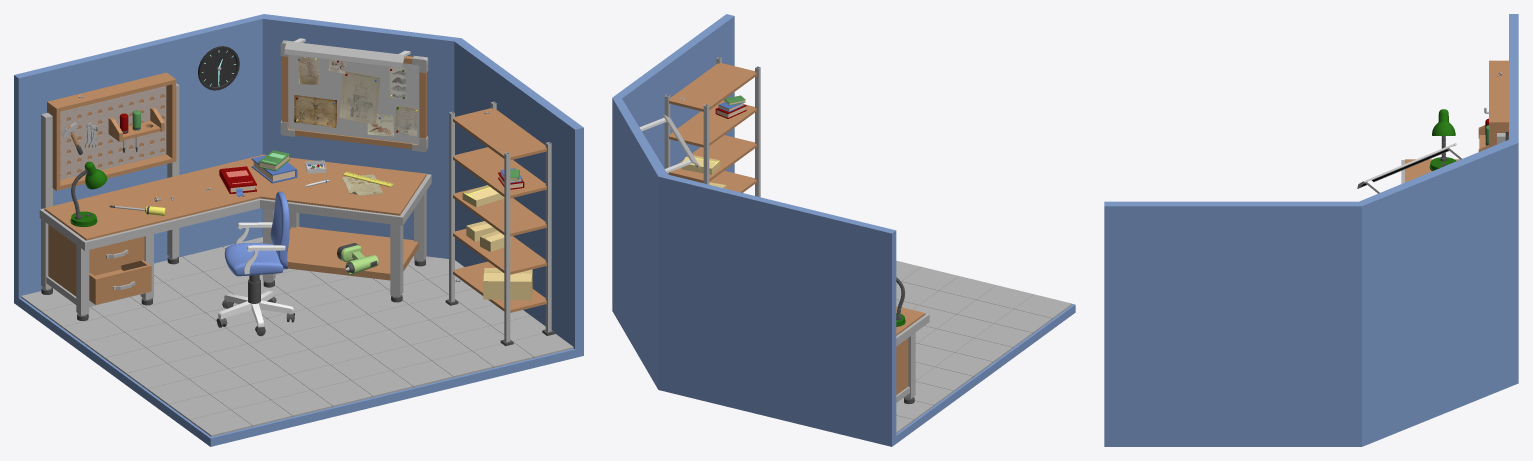
The model's file is stylized-workplace.fbx.
The picture shows the model from 3 angles, left to right: view 1: azimuth 30°, elevation 25°; view 2: azimuth 150°, elevation 25°; view 3: azimuth 270°, elevation 25°; orthographic projection. The views are drawn at different scales.
Parts seen in each view (by area): view 1: Plane.001_base_0, Plane.012_floor_0, Cube_wood_0, Cube.050_wood_0, Plane.011_base_0, Plane_wood.001_0, Cube.026_desk_0, Cube.005_wood_0, Cube_metal_0, Cube.001_wood_0, Cube.049_metal_0, Cube.002_metal_0 (+22 smaller); view 2: Plane.001_base_0, Plane.012_floor_0, Cube.050_wood_0, Plane.011_base_0, Cube.049_metal_0, Cube.008_wood_0, Cube.006_metal_0; view 3: Plane.001_base_0, Plane.011_base_0, Cube.005_wood_0, Cube.046_metal_0, Cylinder.010_greenPlastic.001_0.
Part boxes in pixels (<box>): Plane.001_base_0: <box>14,14,583,349</box>; Plane.012_floor_0: <box>21,237,573,436</box>; Cube_wood_0: <box>44,154,426,240</box>; Cube.050_wood_0: <box>453,108,546,312</box>; Plane.011_base_0: <box>14,295,583,446</box>; Plane_wood.001_0: <box>60,86,166,179</box>; Cube.026_desk_0: <box>288,55,419,144</box>; Cube.005_wood_0: <box>47,72,176,190</box>; Cube_metal_0: <box>39,174,431,250</box>; Cube.001_wood_0: <box>287,226,418,280</box>; Cube.049_metal_0: <box>449,101,551,342</box>; Cube.002_metal_0: <box>41,83,179,289</box>; Plane.001_base_0: <box>612,14,896,438</box>; Plane.012_floor_0: <box>896,260,1072,433</box>; Cube.050_wood_0: <box>669,63,756,192</box>; Plane.011_base_0: <box>612,303,1075,446</box>; Cube.049_metal_0: <box>664,57,760,197</box>; Cube.008_wood_0: <box>896,338,908,394</box>; Cube.006_metal_0: <box>904,332,915,399</box>; Plane.001_base_0: <box>1104,14,1518,437</box>; Plane.011_base_0: <box>1104,374,1518,446</box>; Cube.005_wood_0: <box>1489,60,1508,147</box>; Cube.046_metal_0: <box>1357,143,1456,188</box>; Cylinder.010_greenPlastic.001_0: <box>1432,109,1455,135</box>.
Bounding box in the file's own units: 49191 × 28726 × 44822.
